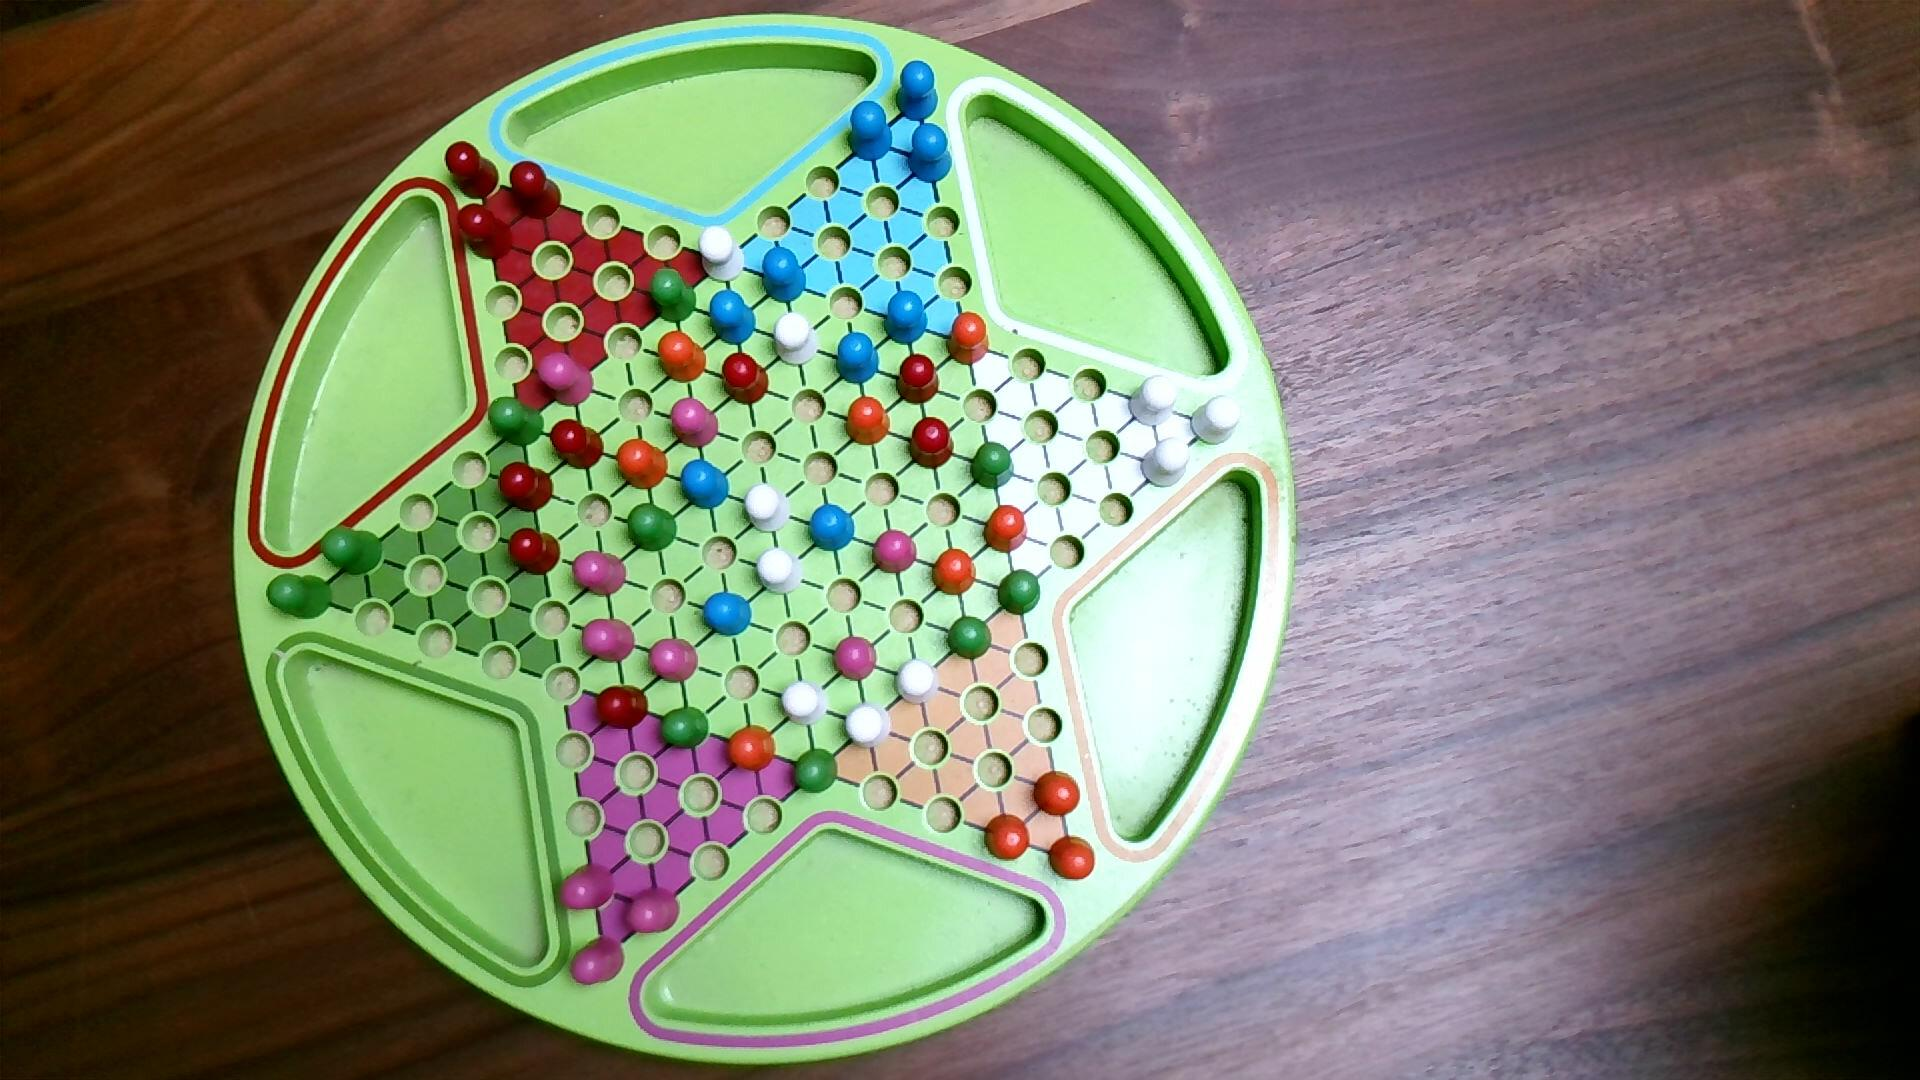B: (847, 99, 895, 165), (758, 244, 808, 307), (905, 123, 955, 186), (708, 287, 760, 348), (894, 59, 942, 123), (679, 458, 732, 512), (806, 501, 858, 555), (833, 328, 882, 386), (882, 289, 930, 348), (702, 591, 756, 640)
G: (319, 524, 385, 578), (265, 572, 336, 621), (646, 265, 699, 326), (487, 396, 546, 448), (625, 501, 680, 555), (945, 615, 996, 663), (791, 746, 840, 796), (969, 440, 1017, 492), (997, 566, 1043, 618), (659, 705, 712, 752)
O: (615, 436, 670, 493), (655, 328, 709, 385), (723, 723, 778, 775), (945, 310, 992, 368), (843, 396, 893, 448), (982, 812, 1033, 864), (1047, 833, 1098, 884), (1031, 769, 1083, 819), (982, 502, 1030, 556), (930, 546, 978, 597)
R: (454, 200, 516, 262), (443, 138, 502, 202), (508, 160, 566, 223), (495, 460, 556, 516), (506, 526, 564, 579), (549, 419, 607, 472), (720, 351, 771, 409), (906, 414, 956, 473), (593, 682, 651, 732), (894, 353, 942, 407)
R2: (535, 351, 597, 409), (620, 884, 683, 936), (568, 934, 626, 988), (556, 862, 618, 913), (669, 396, 721, 451), (571, 550, 629, 599), (580, 617, 637, 665), (647, 638, 702, 684), (870, 527, 919, 576), (832, 634, 880, 684)
W: (696, 223, 746, 285), (1189, 393, 1244, 448), (1127, 375, 1180, 429), (1139, 436, 1192, 491), (771, 311, 820, 369), (742, 481, 793, 535), (843, 700, 894, 752), (891, 657, 943, 708), (756, 547, 806, 597), (779, 680, 831, 728)
